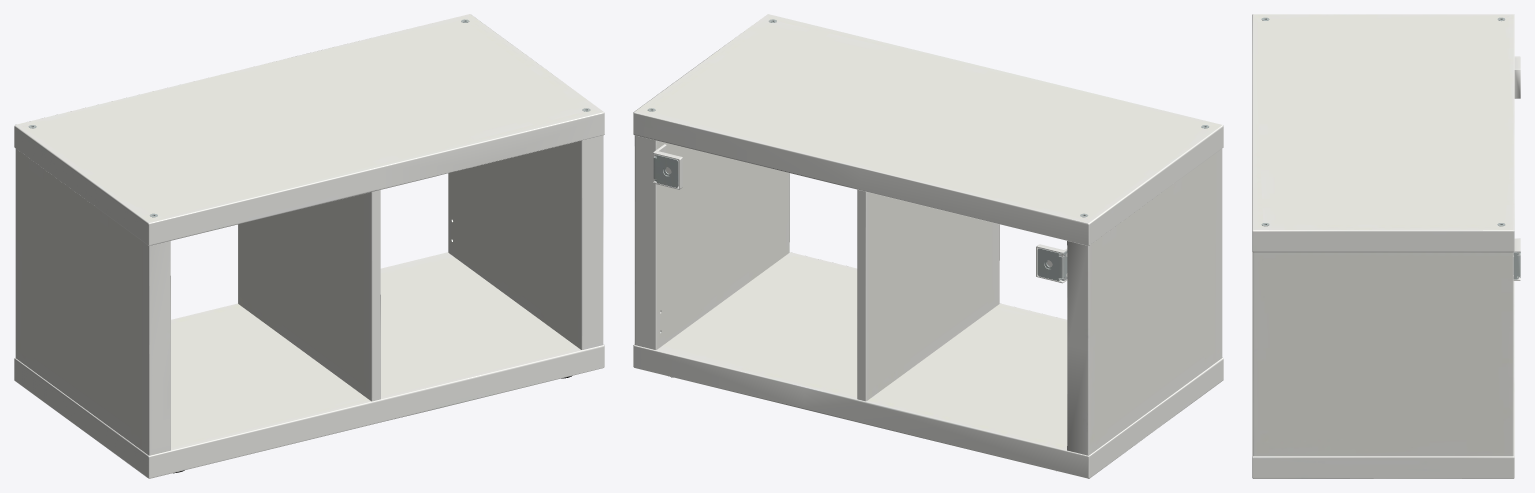
The model's file is KALLAX etag 77x41 blanc.glb.
The picture shows the model from 3 angles, left to right: view 1: azimuth 30°, elevation 25°; view 2: azimuth 150°, elevation 25°; view 3: azimuth 270°, elevation 25°; orthographic projection. The views are drawn at different scales.
Visible parts, largest first — view 1: model; view 2: model; view 3: model.
Boxes of the visible parts, x1=… form: model: x1=14, y1=14, x2=604, y2=478; model: x1=633, y1=14, x2=1223, y2=478; model: x1=1252, y1=14, x2=1520, y2=478.
Bounding box in the file's own units: 0.765 × 0.4163 × 0.401.
1 material, 1 textured.
